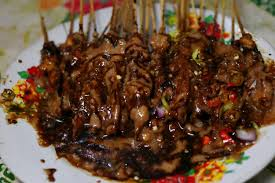sate: (1, 10, 275, 178)
